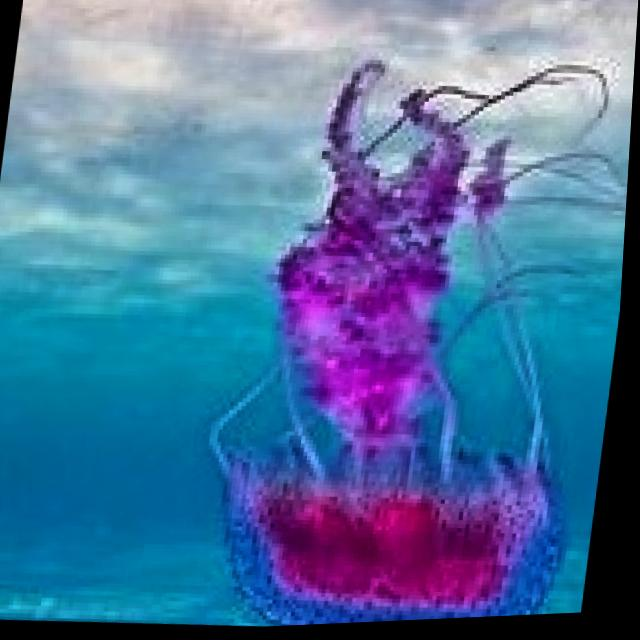Box-jellyfish: (191, 45, 637, 632)
